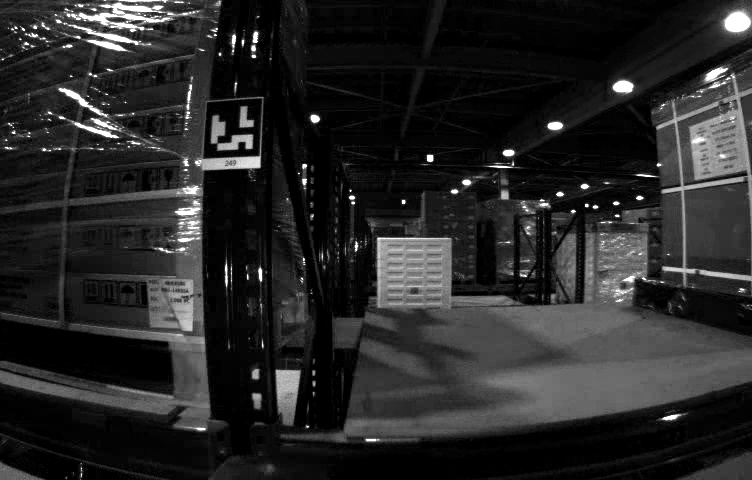True Barcode: (143, 277, 194, 334)
